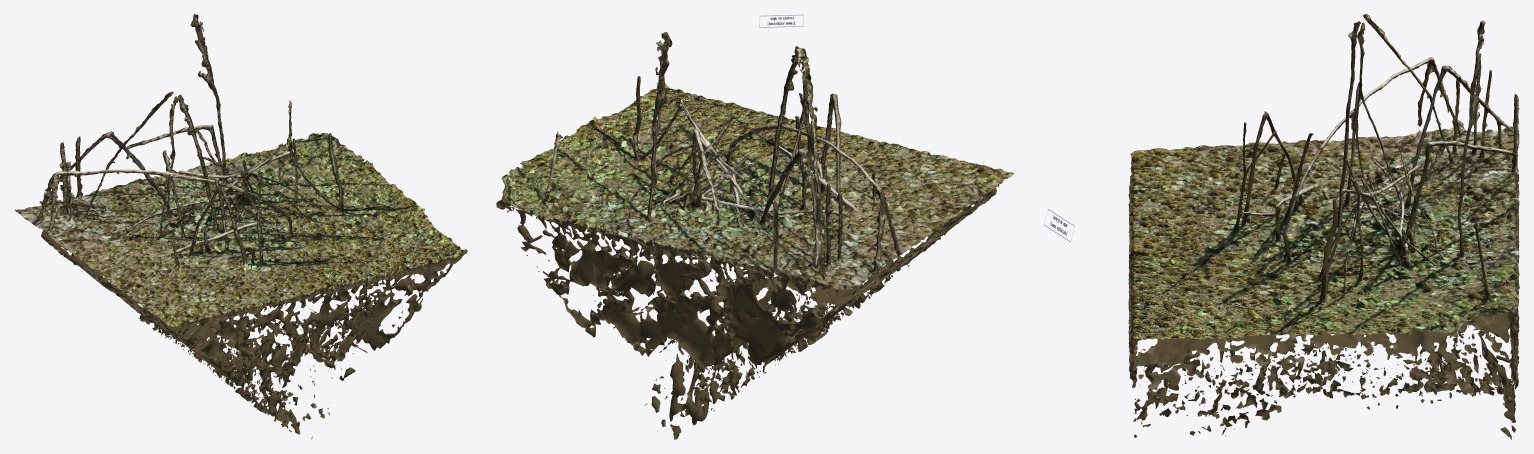
The model's file is lentejas de agua.glb.
3 renders of one model, left to right at view 1: azimuth 30°, elevation 25°; view 2: azimuth 150°, elevation 25°; view 3: azimuth 270°, elevation 25°, orthographic. The views are drawn at different scales.
Visible parts, largest first — view 1: mesh; view 2: mesh; view 3: mesh.
Part boxes in pixels (x1,y1,x2,y2): mesh: (14,14,467,439); mesh: (496,32,1014,439); mesh: (1128,14,1519,439).
Bounding box in the file's own units: 16.19 × 15.75 × 15.78.
167 materials, 167 textured.
